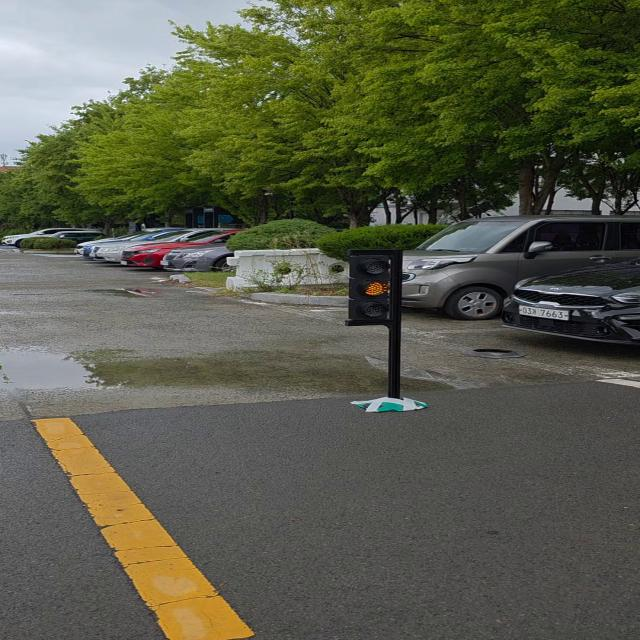yellow: (346, 247, 404, 326)
